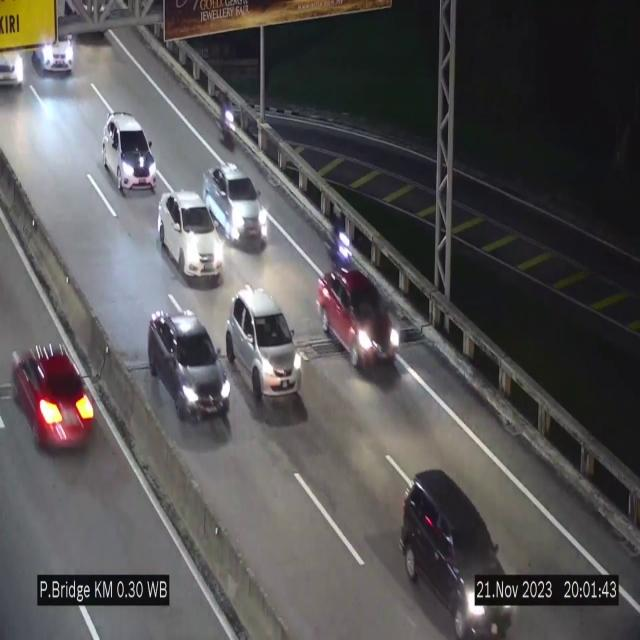Car: (148, 310, 231, 438), (227, 281, 304, 400), (317, 268, 401, 377), (158, 191, 224, 280), (201, 162, 267, 246), (103, 112, 157, 194)
Motorcycle: (212, 88, 238, 152), (329, 214, 351, 268)
